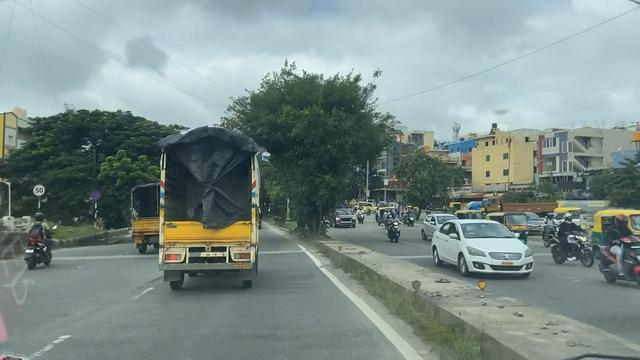HMV: (147, 111, 273, 295)
